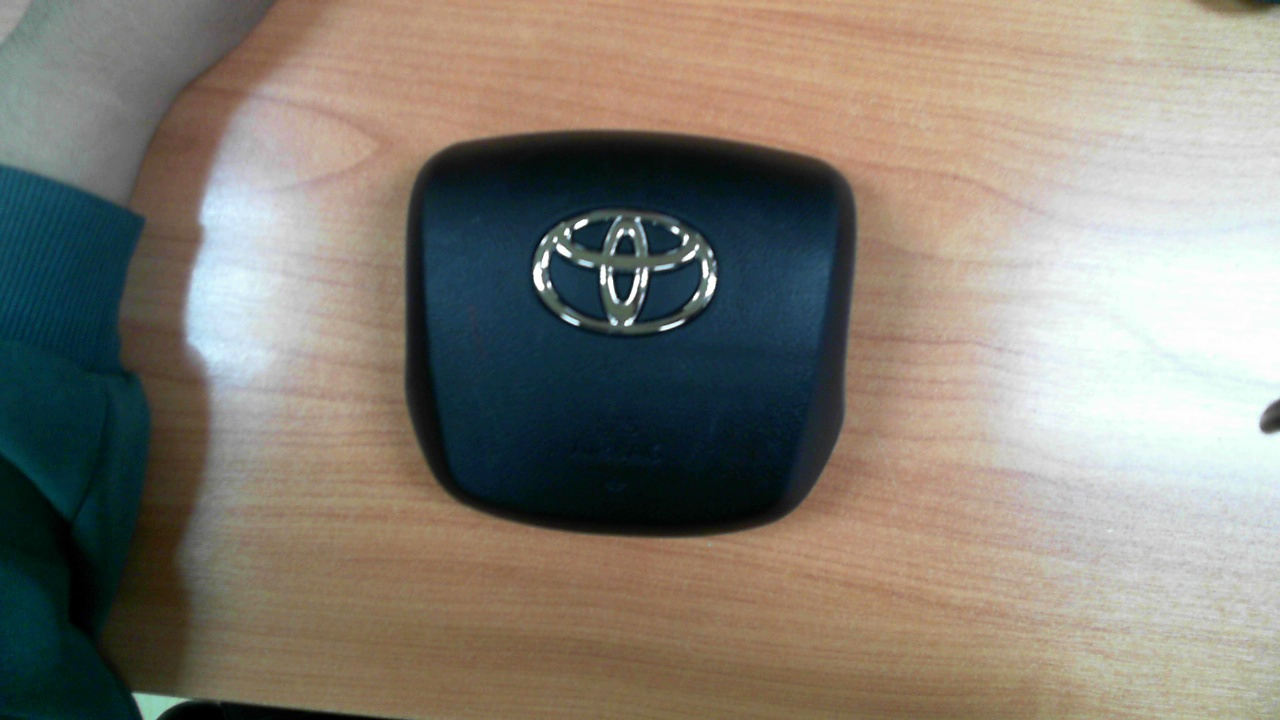Airbag: (402, 129, 858, 539)
Toyota: (533, 209, 717, 334)
